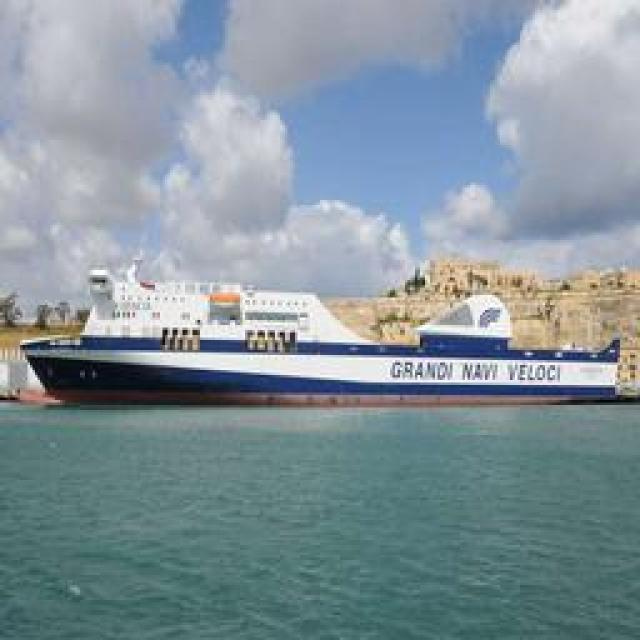CIV_Ship: (26, 264, 632, 406)
